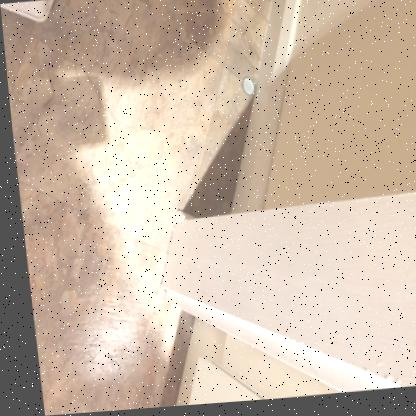Metal: (239, 79, 252, 99)
